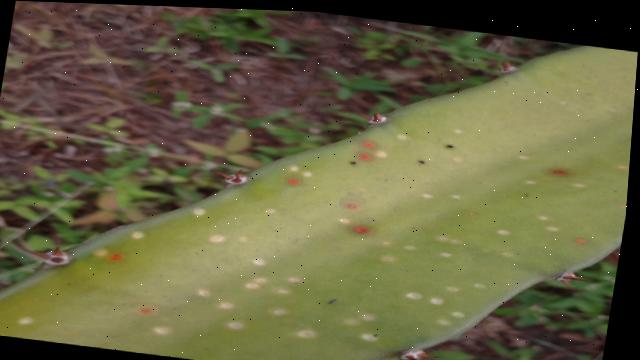stemcanker: (1, 41, 637, 360)
